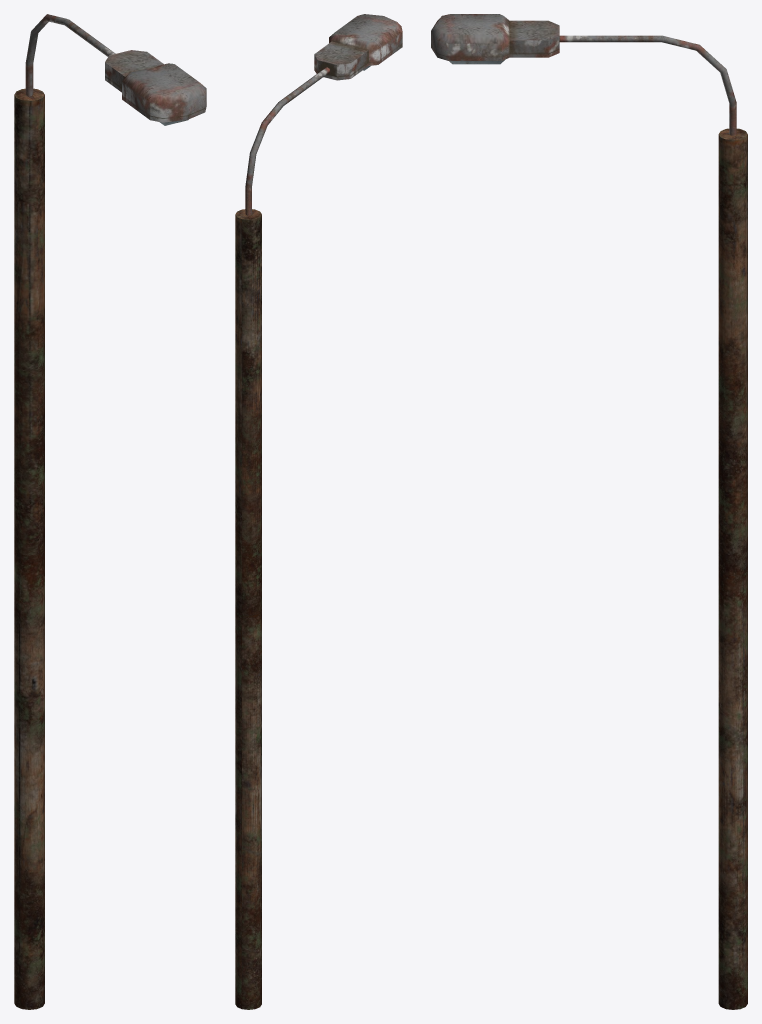
File: street_lamp.glb
3 renders of one model, left to right at view 1: azimuth 30°, elevation 25°; view 2: azimuth 150°, elevation 25°; view 3: azimuth 270°, elevation 25°, orthographic. The views are drawn at different scales.
Parts seen in each view (by area): view 1: prop; view 2: prop; view 3: prop.
Boxes of the visible parts, x1,y1,x2,y2 form: prop: (14, 14, 206, 1009); prop: (235, 14, 402, 1009); prop: (431, 14, 747, 1009).
Bounding box in the file's own units: 0.3503 × 6.06 × 1.78.
Materials: 1 (1 with a texture image).
